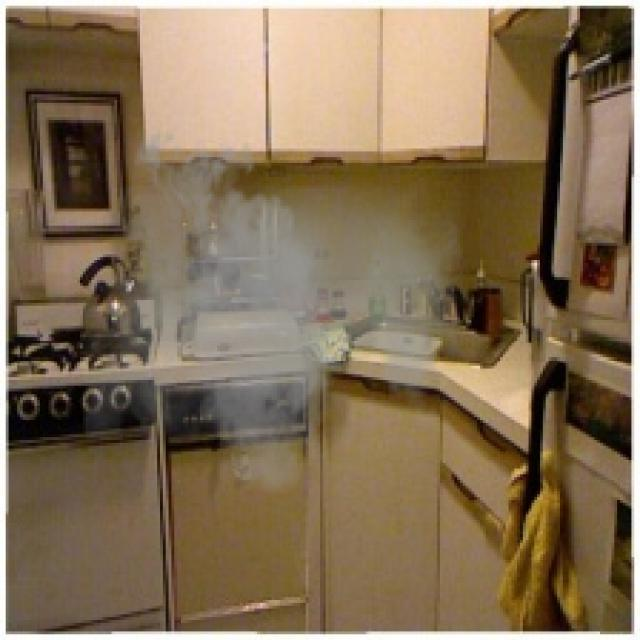Smoke: (83, 117, 463, 509)
